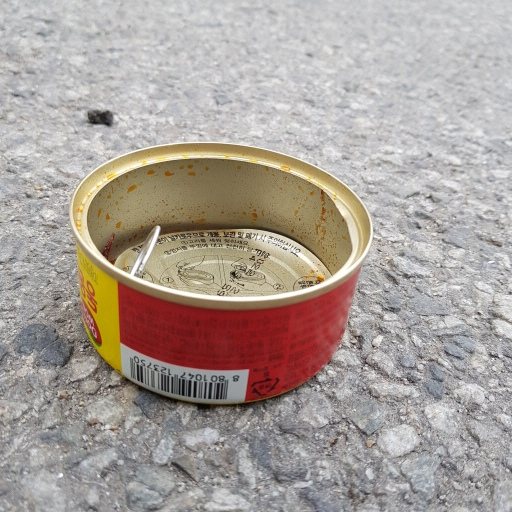Metal_1: (68, 141, 374, 405)
